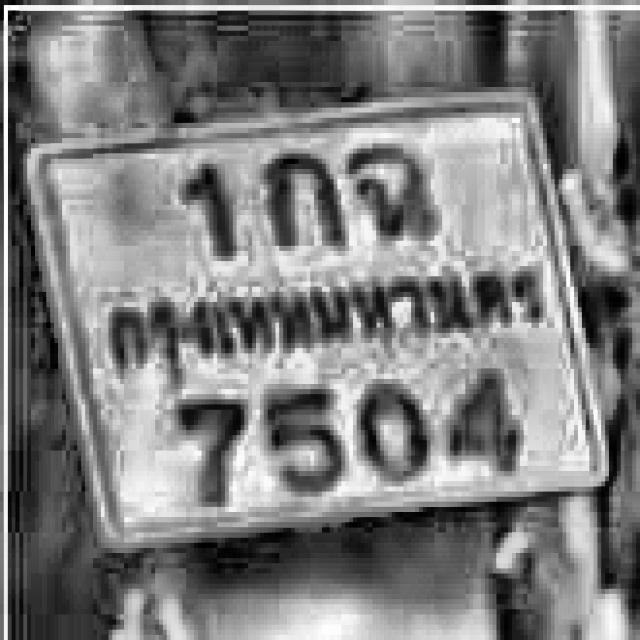license-plate: (18, 75, 623, 562)
